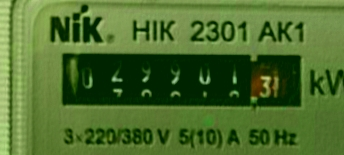0: (77, 63, 96, 90), (196, 58, 213, 88)
1: (227, 58, 241, 86)
2: (107, 57, 126, 85)
3: (256, 73, 273, 99)
9: (137, 58, 154, 85), (168, 59, 182, 86)
screen: (52, 43, 313, 118)
